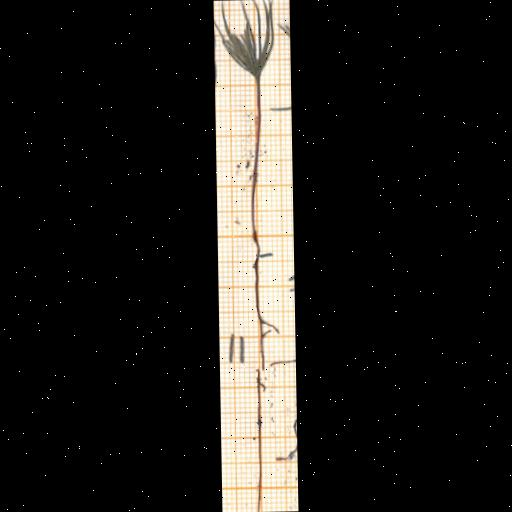flowerPinus: (214, 0, 273, 79)
rootPinus: (255, 371, 265, 512)
stemPinus: (250, 77, 261, 256)
